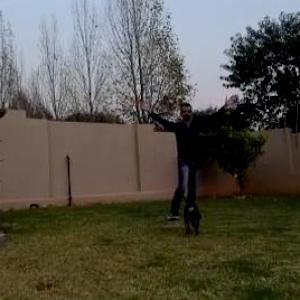takeoff: (124, 94, 224, 218)
